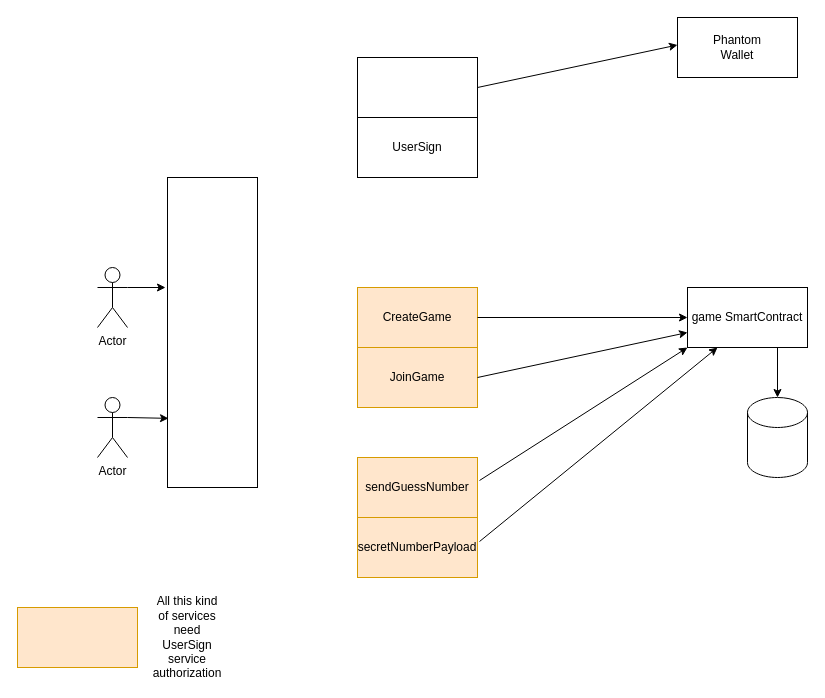
Image size: 825x698. Some labels were removed from this diagram. Each missing label, with the centre of its shape:
"Auth" goes at [417,87].
"Client" goes at [212,332].
"pda account" goes at [777,437].
